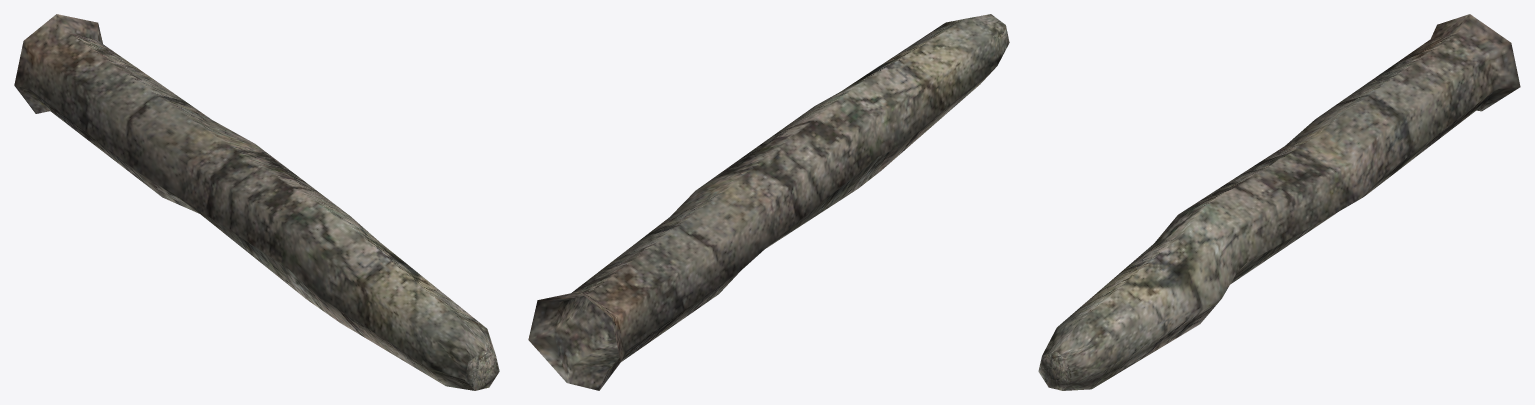
The model's file is tdr_h_stag_a.obj.
3 views of the same model, side by side, from view 1: azimuth 30°, elevation 25°; view 2: azimuth 150°, elevation 25°; view 3: azimuth 330°, elevation 25° (orthographic).
Visible parts, largest first — view 1: tdr_h_stag_a; view 2: tdr_h_stag_a; view 3: tdr_h_stag_a.
Part boxes in pixels (x1=…): tdr_h_stag_a: x1=14, y1=14, x2=499, y2=390; tdr_h_stag_a: x1=528, y1=14, x2=1009, y2=390; tdr_h_stag_a: x1=1038, y1=14, x2=1520, y2=390.
Bounding box in the file's own units: 151 × 150 × 1187.
Materials: 1 (1 with a texture image).
